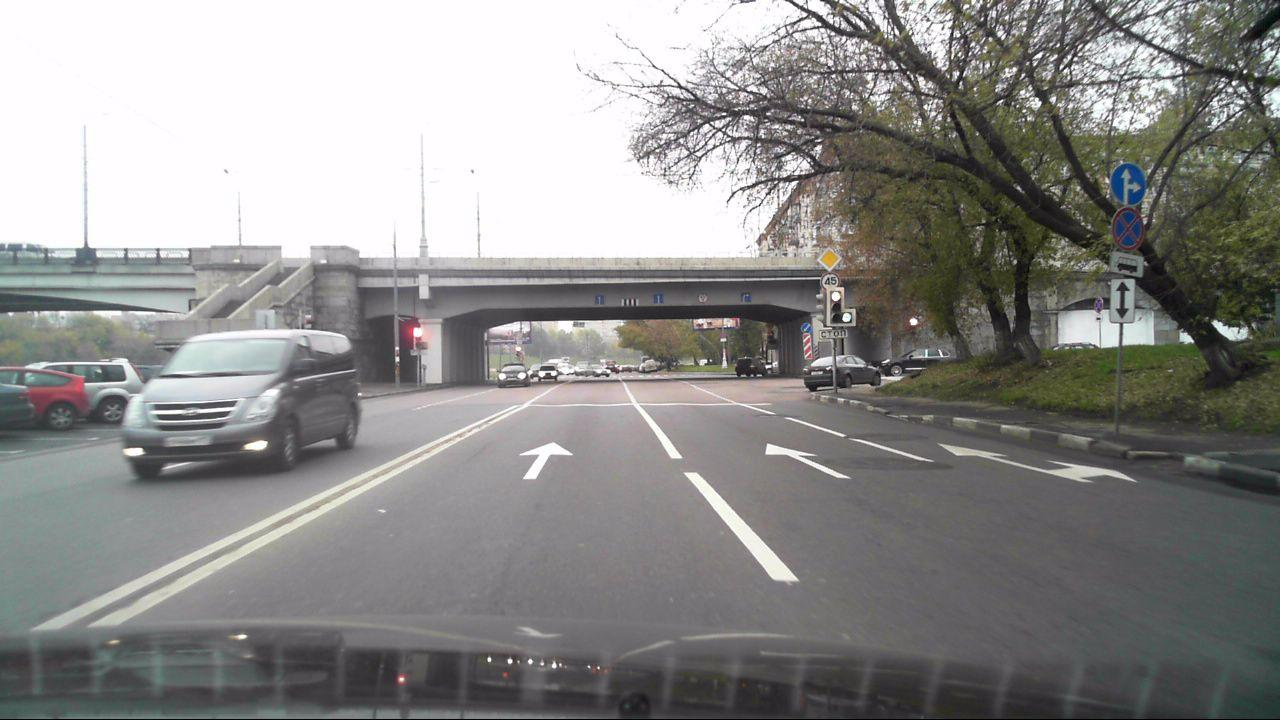2_1: (815, 247, 841, 271)
3_13: (821, 273, 839, 288), (699, 294, 708, 303)
3_27: (1111, 207, 1145, 249), (1094, 296, 1104, 313)
4_1_4: (1107, 159, 1150, 205)
4_2_2: (799, 322, 813, 333)
5_15_2: (653, 293, 664, 304), (741, 292, 752, 303), (595, 295, 605, 305)
6_16: (818, 330, 848, 339)
8_22_2: (803, 333, 812, 359)
8_2_4: (1109, 278, 1136, 325)
8_4_4: (1109, 250, 1144, 278)
